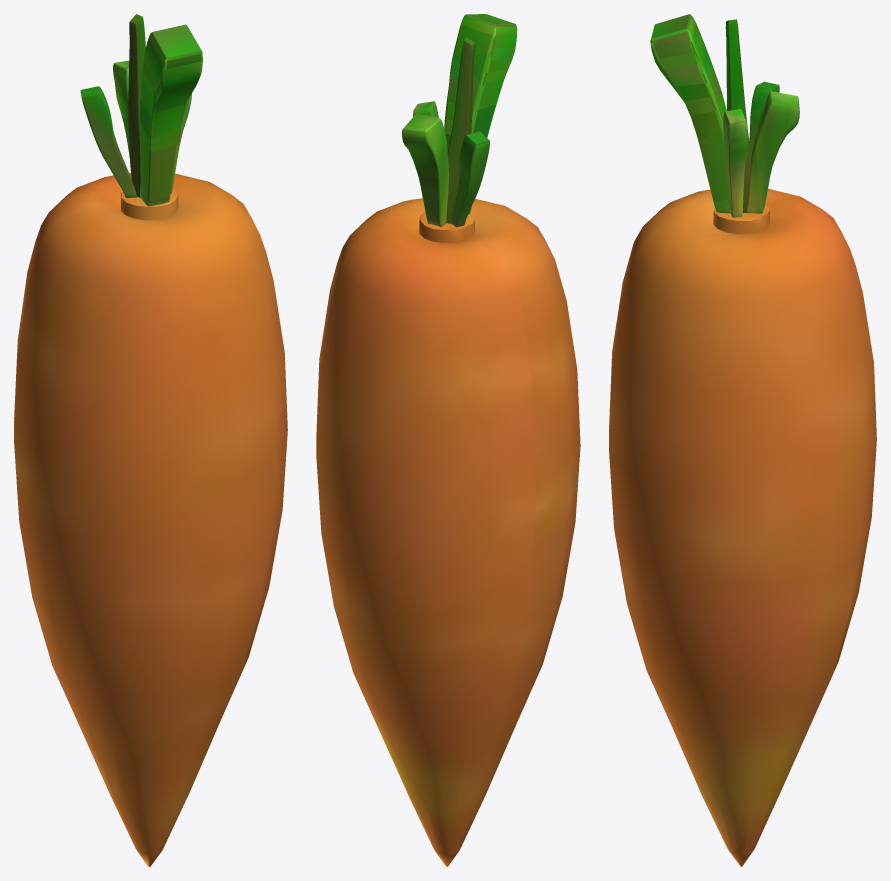
Rendered from carrot.fbx.
3 views of the same model, side by side, from view 1: azimuth 30°, elevation 25°; view 2: azimuth 150°, elevation 25°; view 3: azimuth 270°, elevation 25° (orthographic). The views are drawn at different scales.
Parts seen in each view (by area): view 1: Cylinder; view 2: Cylinder; view 3: Cylinder.
Part boxes in pixels (x1,y1,x2,y2): Cylinder: (14,14,287,866); Cylinder: (316,14,580,866); Cylinder: (609,14,876,866).
Size of the model in its own units: 2.79 by 9.62 by 2.77.
1 material, 1 textured.
